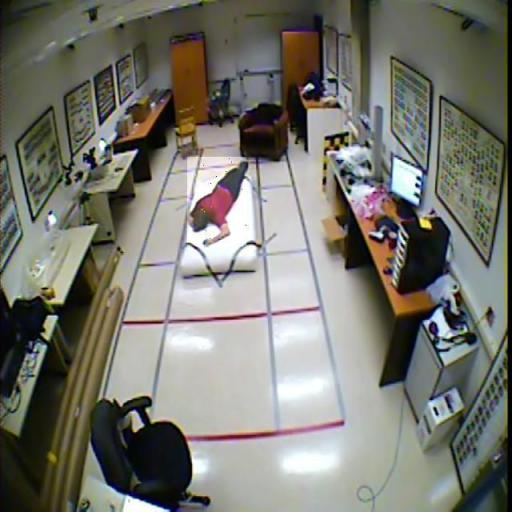Fall: (188, 157, 247, 246)
